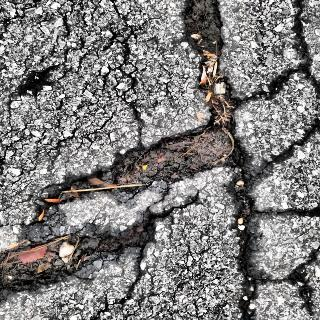alligator-crack: (228, 75, 320, 320)
crack: (81, 32, 161, 320)
pothole: (40, 122, 251, 208), (0, 212, 169, 294), (176, 0, 230, 61)
